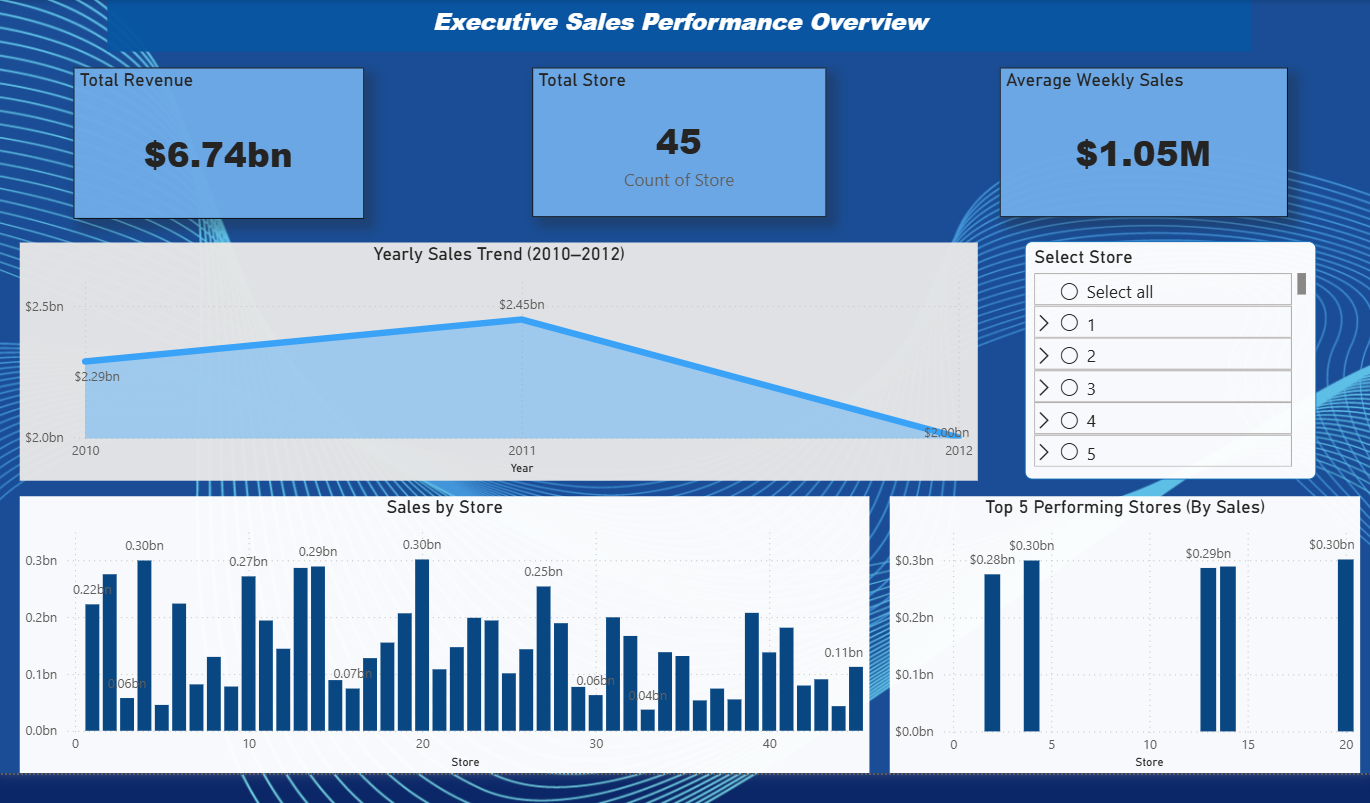

This screenshot's page, from the dashboard's own definition file:
{"tool":"powerbi","page":{"name":"Executive Sales Performance Overview","canvas":[1280,720],"ordinal":0},"visuals":[{"type":"card","title":"Total Revenue","fields":{"Values":["Walmart.Total Sales"]},"box":[72.1,62.4,270.2,140.6],"z":0},{"type":"card","title":"Total Store","fields":{"Values":["Count(Walmart.Store)"]},"box":[498.9,62.4,273.9,139.4],"z":1000},{"type":"card","title":"Average Weekly Sales","fields":{"Values":["Walmart.Average Sales"]},"box":[934.2,62.4,267.8,139.4],"z":2000},{"type":"textbox","box":[103.5,0,1065.1,47.7],"z":3000},{"type":"lineChart","title":"Yearly Sales Trend (2010–2012)","fields":{"Category":["Walmart.Date.Variation.Date Hierarchy.Year","Walmart.Date.Variation.Date Hierarchy.Quarter","Walmart.Date.Variation.Date Hierarchy.Month","Walmart.Date.Variation.Date Hierarchy.Day"],"Y":["Sum(Walmart.Weekly_Sales)"]},"box":[22,225,891.4,221.3],"z":4000},{"type":"clusteredColumnChart","title":"Sales by Store","fields":{"Category":["Walmart.Store"],"Y":["Sum(Walmart.Weekly_Sales)"]},"box":[22.1,461.6,790.7,258.1],"z":5000},{"type":"listSlicer","title":"Select Store","fields":{"Values":["Walmart.Store","Walmart.Date.Variation.Date Hierarchy.Year","Walmart.Date.Variation.Date Hierarchy.Quarter","Walmart.Date.Variation.Date Hierarchy.Month","Walmart.Date.Variation.Date Hierarchy.Day","Walmart.Holiday_Flag"]},"box":[957.5,225,271.2,221.2],"z":6000},{"type":"columnChart","title":"Top 5 Performing Stores (By Sales)","fields":{"Category":["Walmart.Store"],"Y":["Sum(Walmart.Weekly_Sales)"]},"box":[831.2,461.2,437.5,258.8],"z":7000}]}

Visuals, with their boxes on the page's 1280x720 design canvas (x1, y1, x2, y2). These are canvas units, not pixel positions in the 1370x803 screenshot, which may show the page scaled, cropped or inside an application window:
"Total Revenue" card: <region>72, 62, 342, 203</region>
"Total Store" card: <region>499, 62, 773, 202</region>
"Average Weekly Sales" card: <region>934, 62, 1202, 202</region>
textbox: <region>104, 0, 1169, 48</region>
"Yearly Sales Trend (2010–2012)" lineChart: <region>22, 225, 913, 446</region>
"Sales by Store" clusteredColumnChart: <region>22, 462, 813, 720</region>
"Select Store" listSlicer: <region>958, 225, 1229, 446</region>
"Top 5 Performing Stores (By Sales)" columnChart: <region>831, 461, 1269, 720</region>
